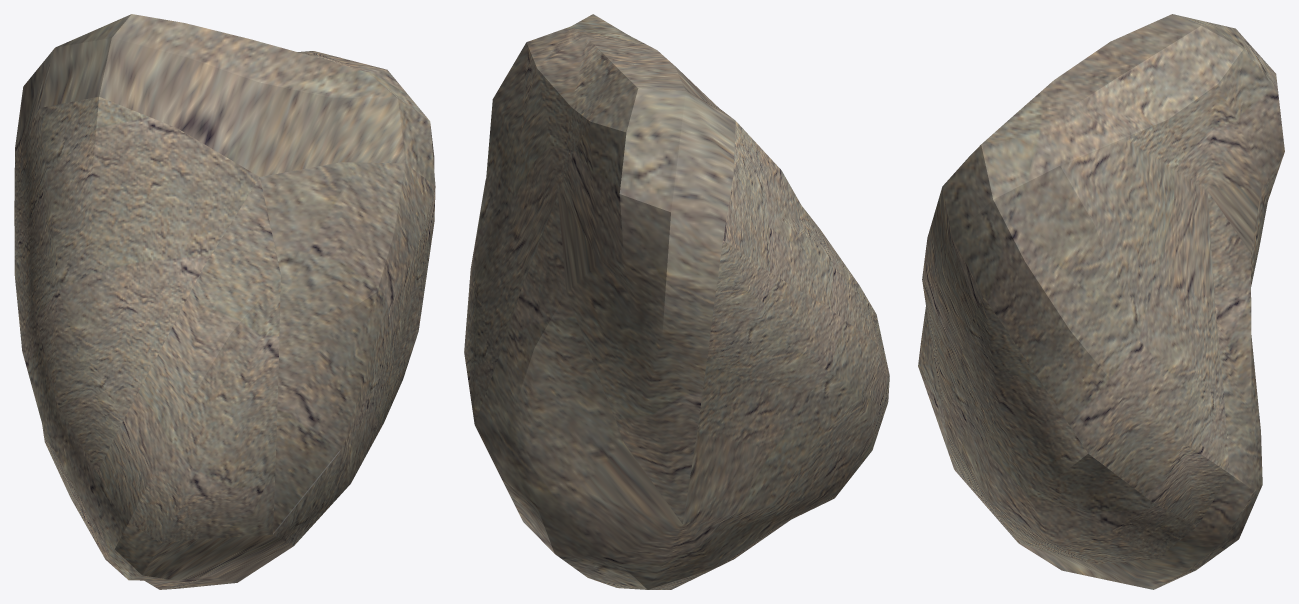
Rendered from steentjes voor activiteit 2.fbx.
3 renders of one model, left to right at view 1: azimuth 30°, elevation 25°; view 2: azimuth 150°, elevation 25°; view 3: azimuth 270°, elevation 25°, orthographic. The views are drawn at different scales.
Parts seen in each view (by area): view 1: rock.003; view 2: rock.003; view 3: rock.003.
Boxes of the visible parts, left/top/right/bottom form: rock.003: left=14, top=14, right=435, bottom=589; rock.003: left=464, top=14, right=889, bottom=589; rock.003: left=918, top=14, right=1284, bottom=589.
Size of the model in its own units: 7.68 by 10.34 by 6.28.
Materials: 1 (1 with a texture image).
